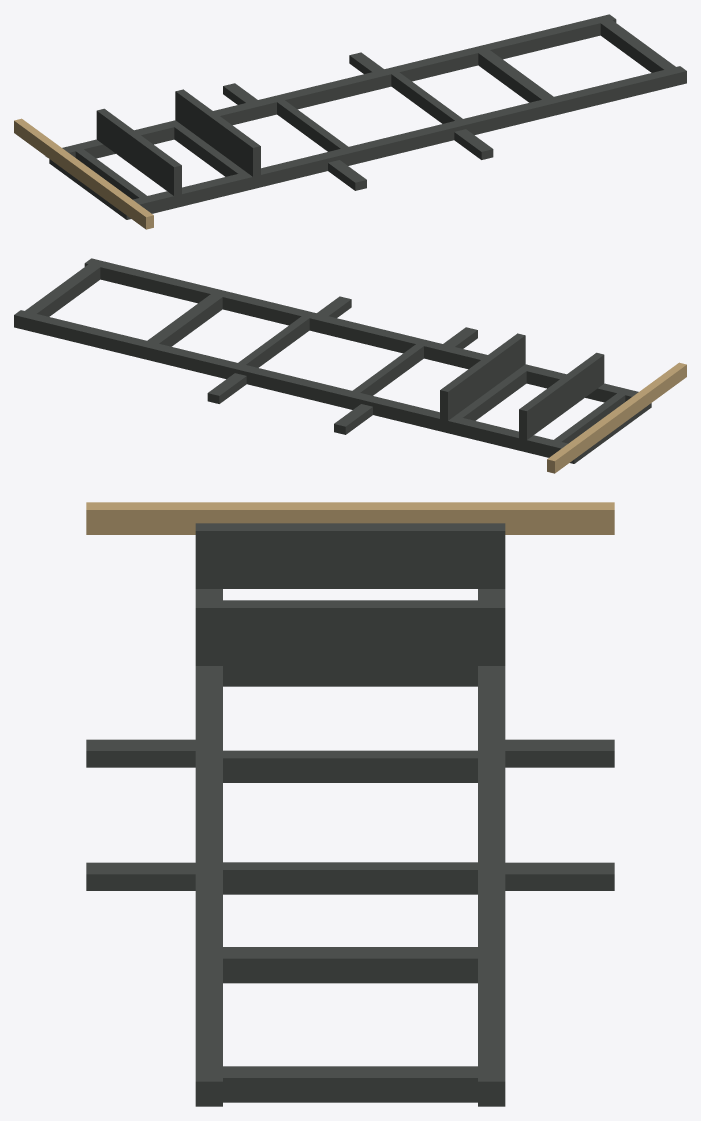
The model's file is light_tactical_vehicle_frame.glb.
3 views of the same model, one above another, from view 1: azimuth 30°, elevation 25°; view 2: azimuth 150°, elevation 25°; view 3: azimuth 270°, elevation 25° (orthographic). The views are drawn at different scales.
Parts seen in each view (by area): view 1: body:compound; view 2: body:compound; view 3: body:compound.
Boxes of the visible parts, x1,y1,x2,y2 form: body:compound: [14, 14, 686, 229]; body:compound: [14, 258, 686, 473]; body:compound: [86, 502, 614, 1106].
Size of the model in its own units: 4.5 by 0.3125 by 1.81.
